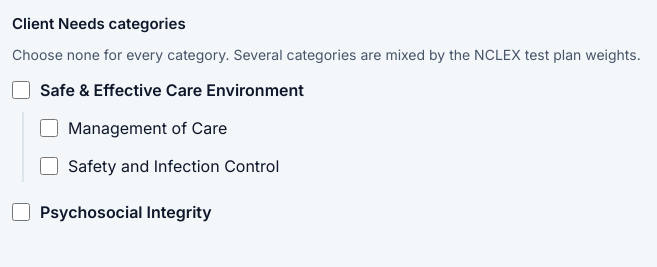
Test: CategoryTree › selects all of a category's subcategories from its own box
This screenshot has width=657, height=267.
Step 1. Click the checkbox labelled "Safe & Effective Care Environment" → (21, 90), box x1=12 y1=81 x2=30 y2=99
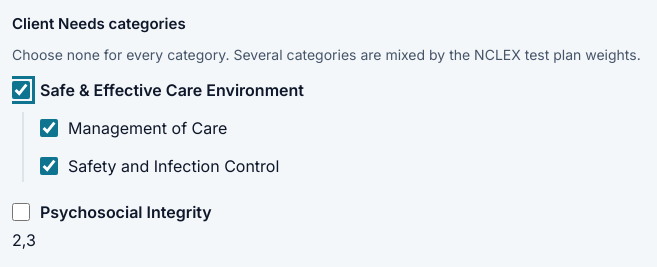
expect the text with test id "value" reads "2,3": met, box x1=12 y1=230 x2=36 y2=250
expect the checkbox labelled "Management of Care" is checked: met, box x1=40 y1=119 x2=58 y2=137
expect the checkbox labelled "Safety and Infection Control" is checked: met, box x1=40 y1=157 x2=58 y2=175
